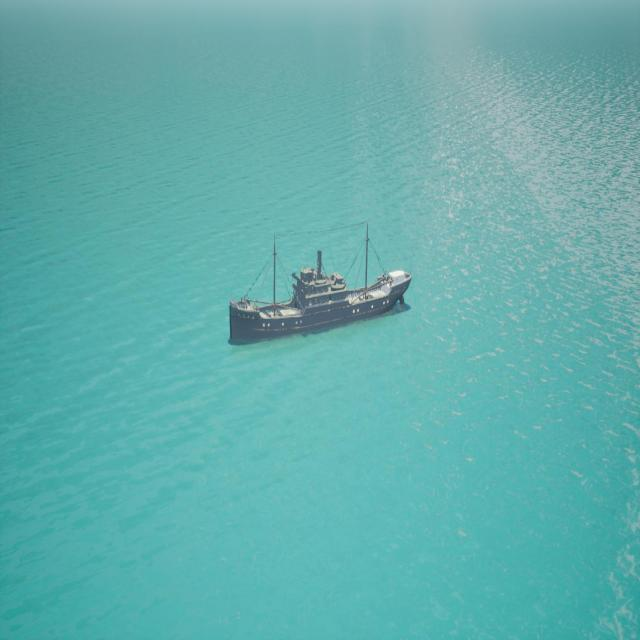fishing ship: (229, 228, 414, 346)
